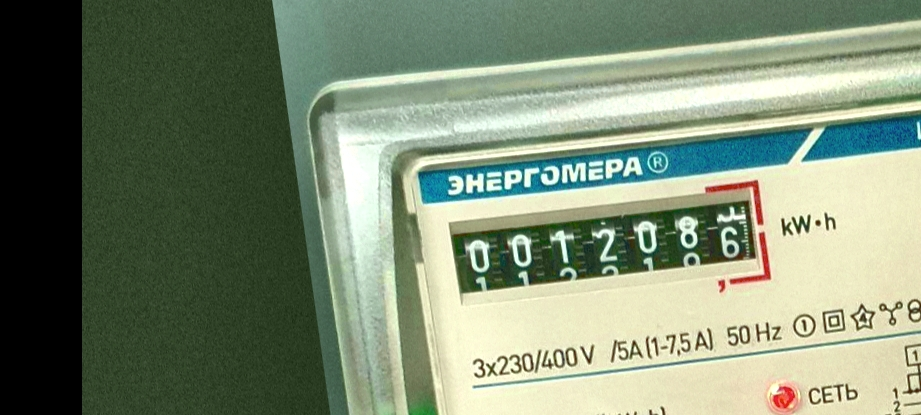0: (462, 234, 494, 276), (506, 230, 535, 270), (631, 217, 659, 256)
1: (548, 226, 574, 267)
2: (590, 224, 621, 265)
6: (714, 222, 742, 261)
8: (671, 212, 701, 252)
screen: (439, 171, 781, 329)
